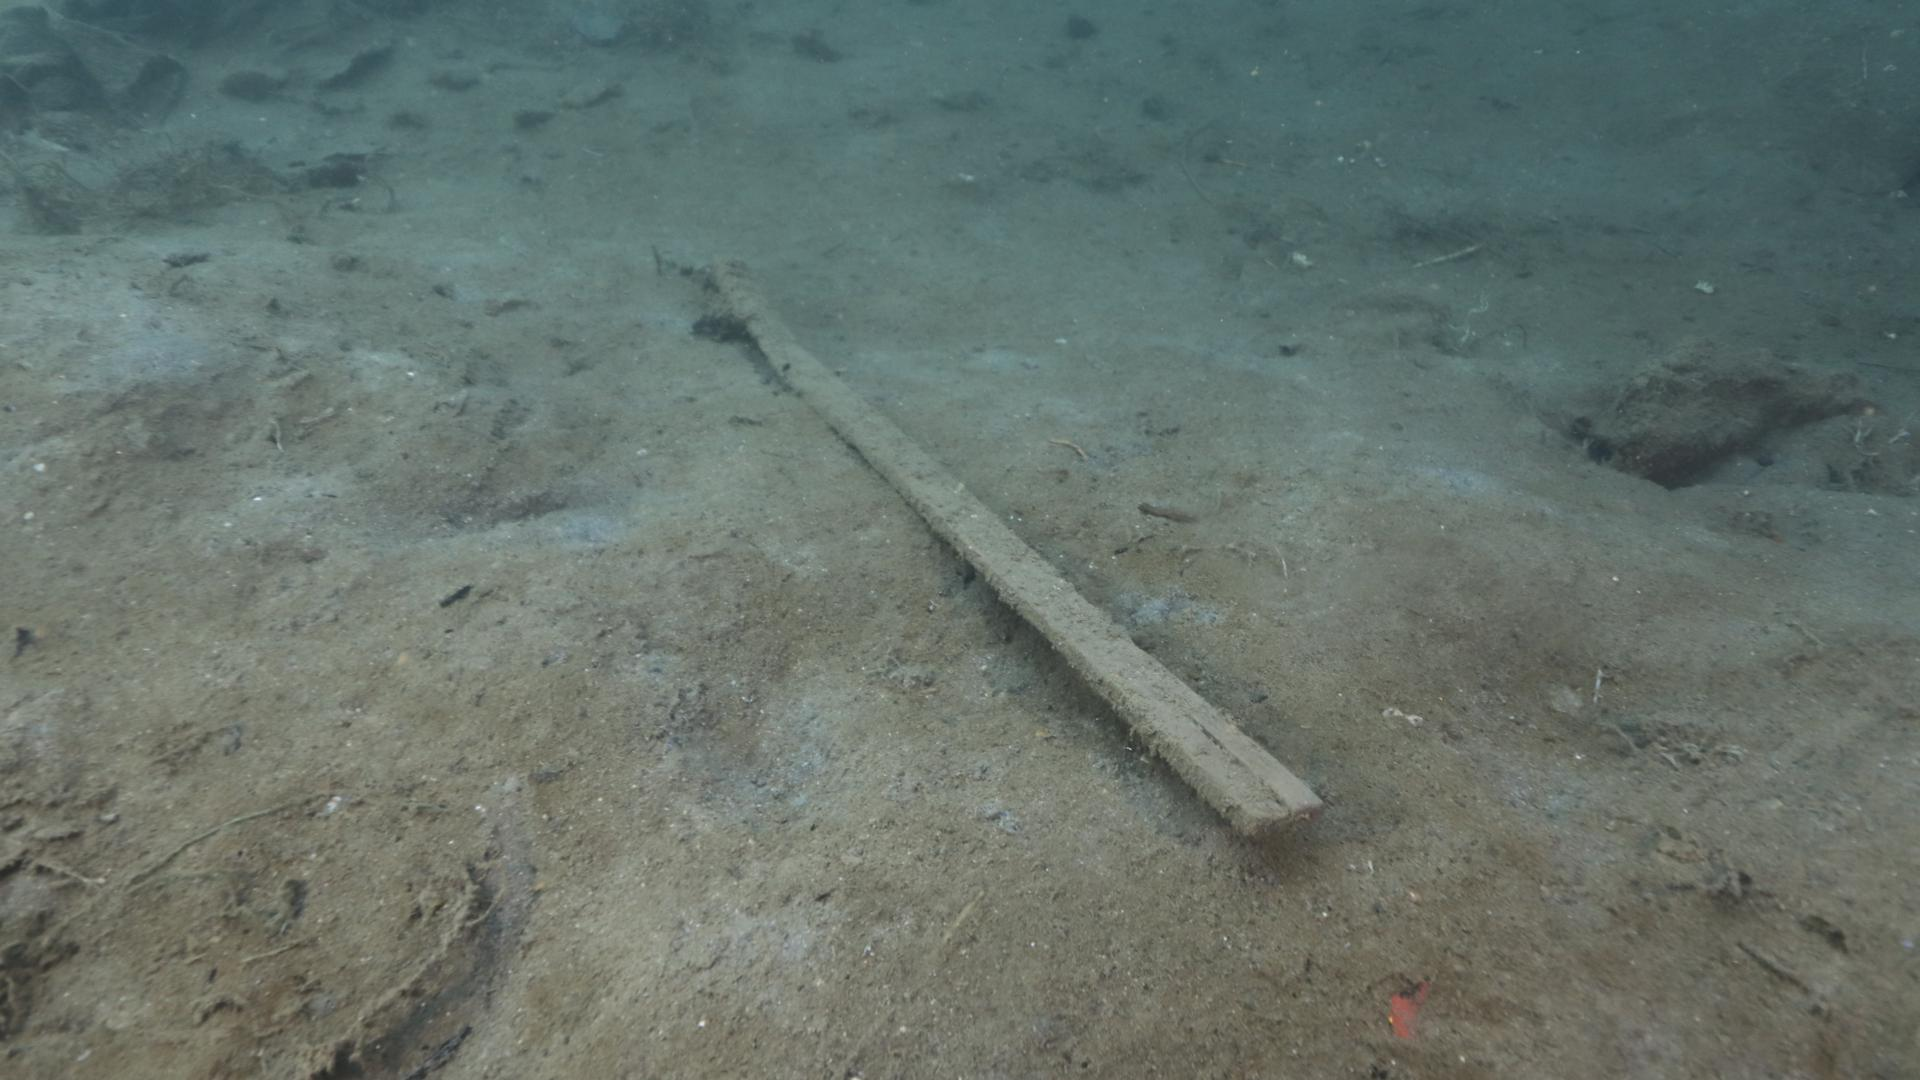wood: (713, 255, 1335, 848)
